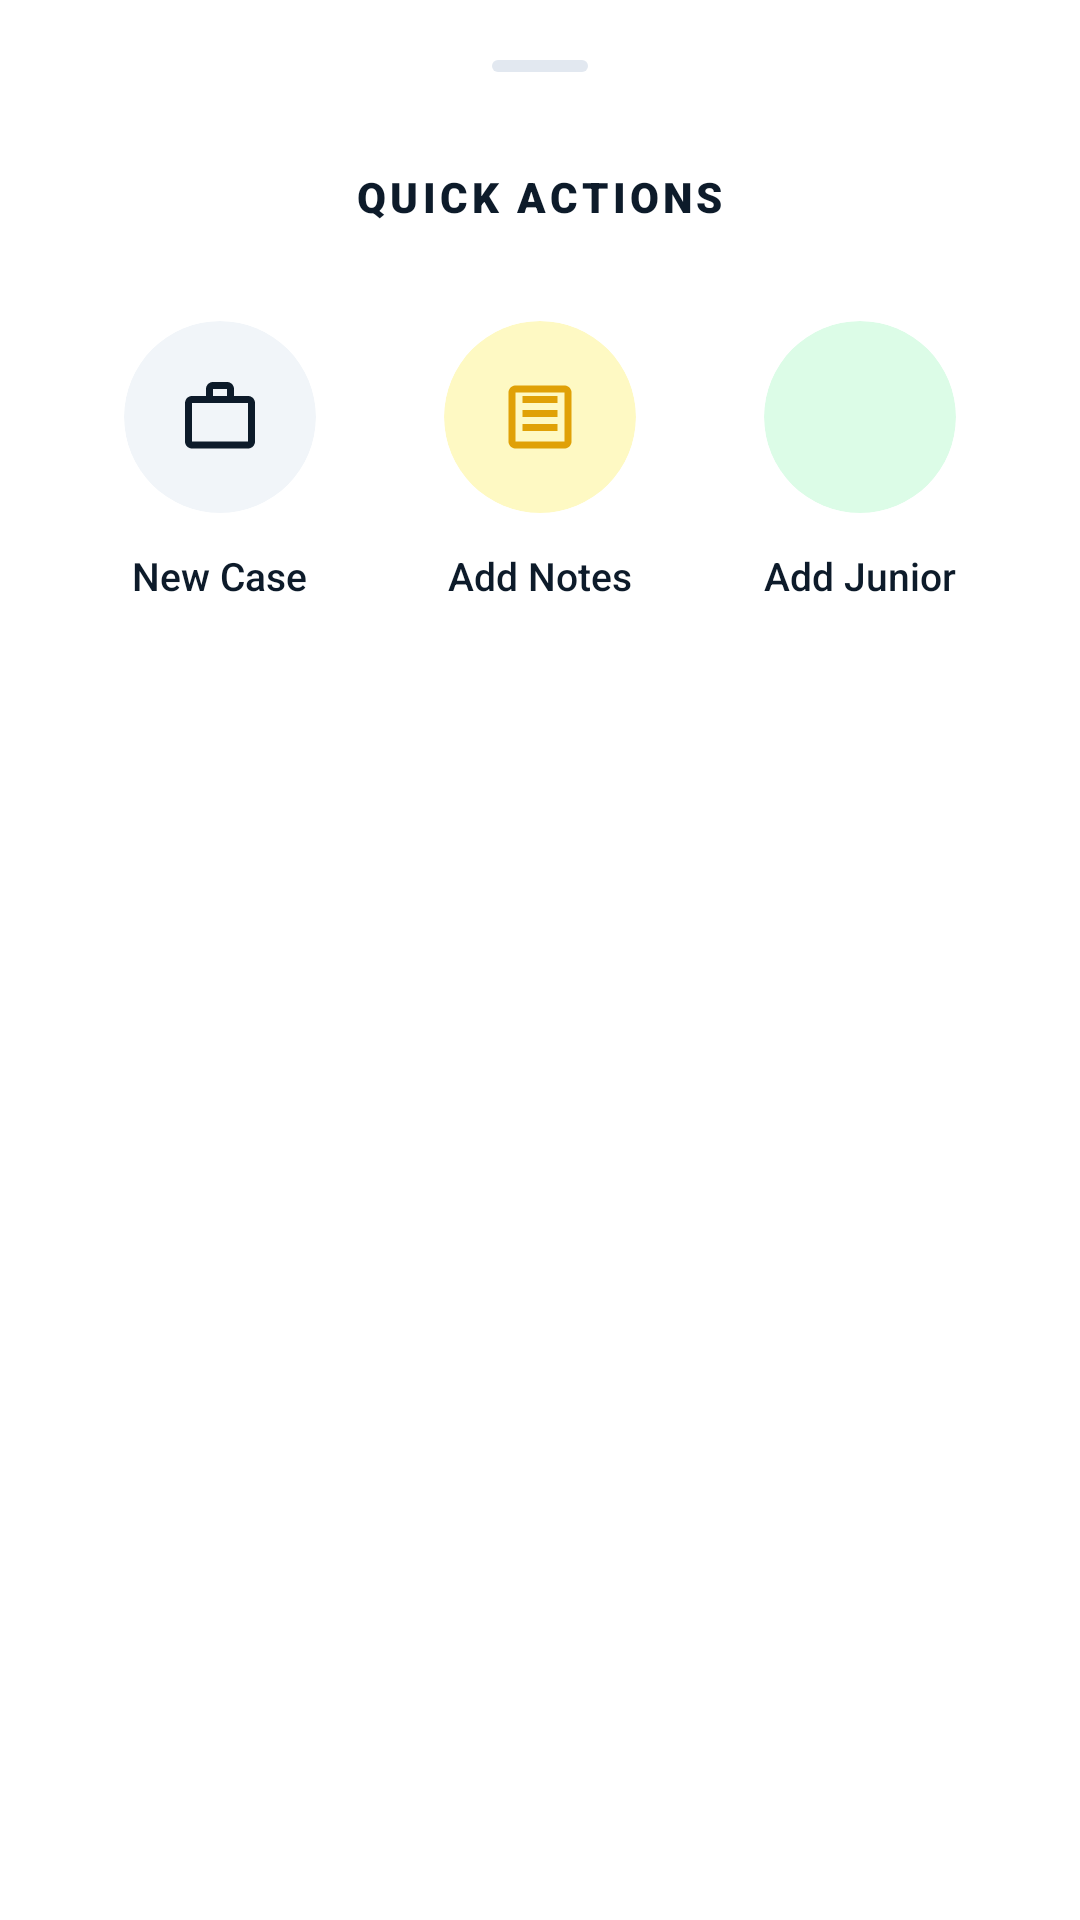

Named icons in this screenshot (1080px×1920px) and their bounding boxes, (x1, y1, x2, y2):
cases: (185, 382, 255, 449)
